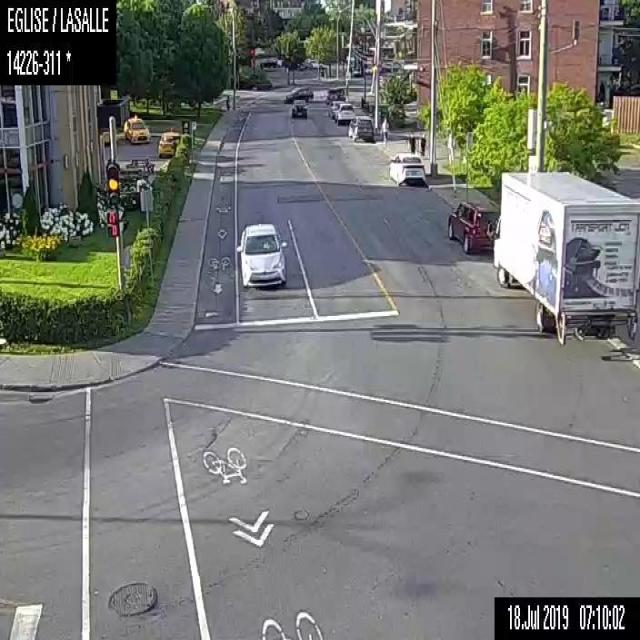pedestrian: (416, 129, 426, 161), (406, 128, 416, 155), (380, 117, 387, 140)
vehicle: (485, 168, 639, 342), (234, 221, 286, 287), (446, 201, 501, 254), (384, 151, 426, 185), (122, 115, 151, 143), (345, 113, 373, 140), (157, 129, 179, 156), (282, 84, 314, 102), (334, 102, 354, 124), (291, 98, 306, 119), (325, 86, 343, 103), (326, 100, 342, 117), (258, 56, 276, 68)
